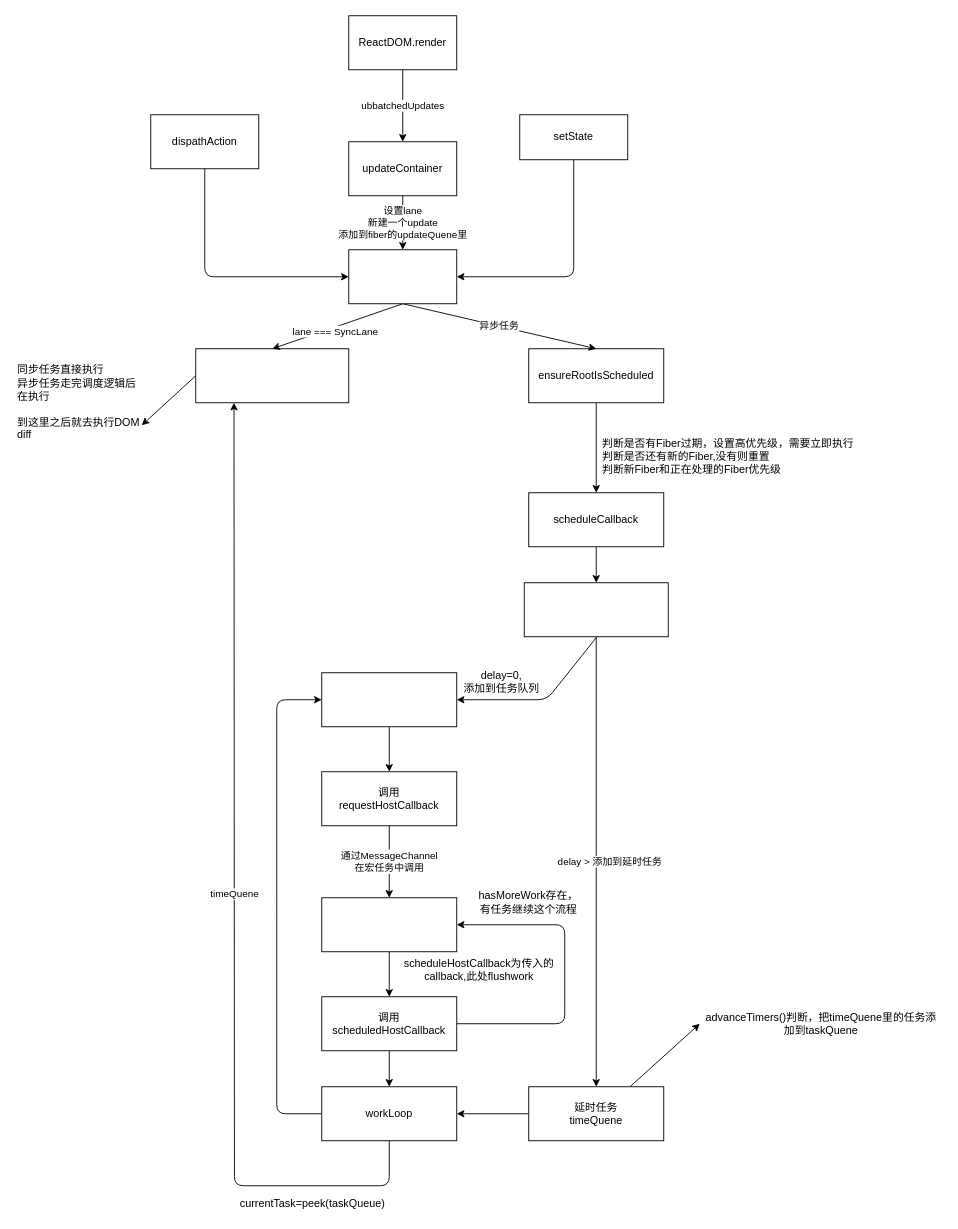
The diagram is 958 pixels wide and 1229 high, and some of its shapes have lost their labels. Each missing label, with the centre of its shape:
"performSyncWorkOnRoot" belongs at [272,375].
"performWorkUnitilDeadline" belongs at [389,924].
"scheduleWork" belongs at [402,276].
"unstable_scheduleCallback" belongs at [595,609].
"任务队列 taskQuene" belongs at [389,699].
